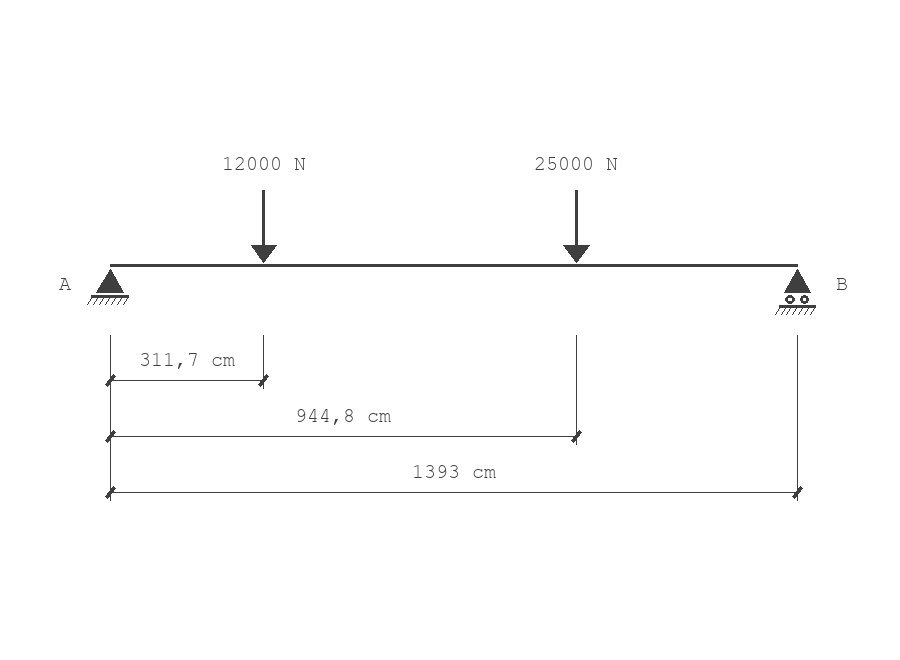pin_support: (87, 269, 129, 305)
point_load: (563, 190, 590, 263), (251, 190, 277, 263)
roller_support: (775, 269, 816, 315)
